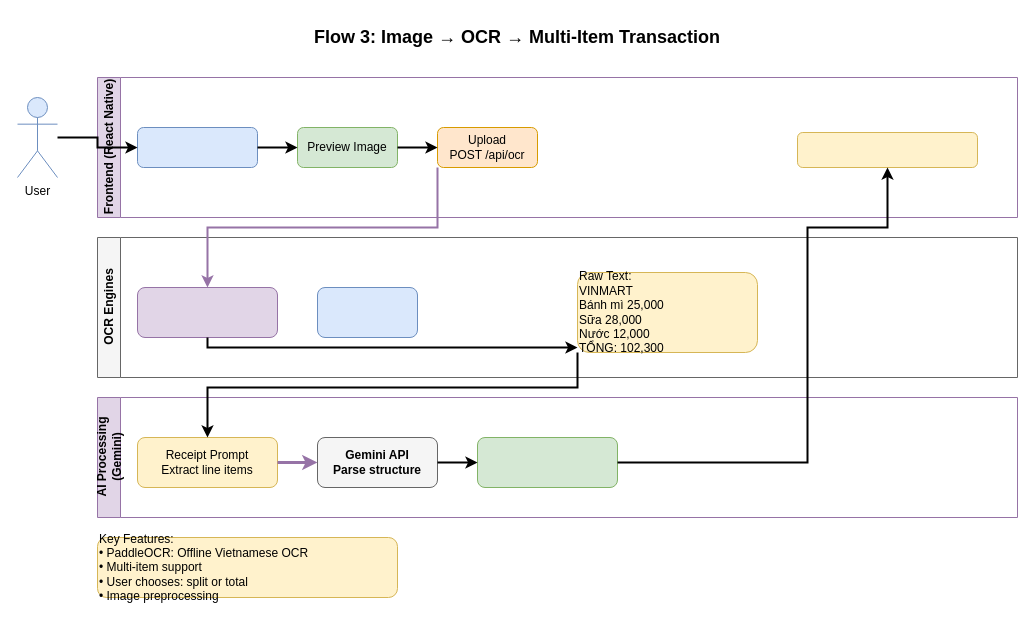
The diagram is 1035 pixels wide and 620 high, and some of its shapes have lost their labels. Each missing label, with the centre of its shape:
Google Vision: (367,312)
MultiTransactionPreviewCard: (887,150)
PaddleOCR (Offline) Vietnamese support: (207,312)
Result: [4 items] or [1 total]: (547,462)
📷 Camera/Gallery: (197,147)
